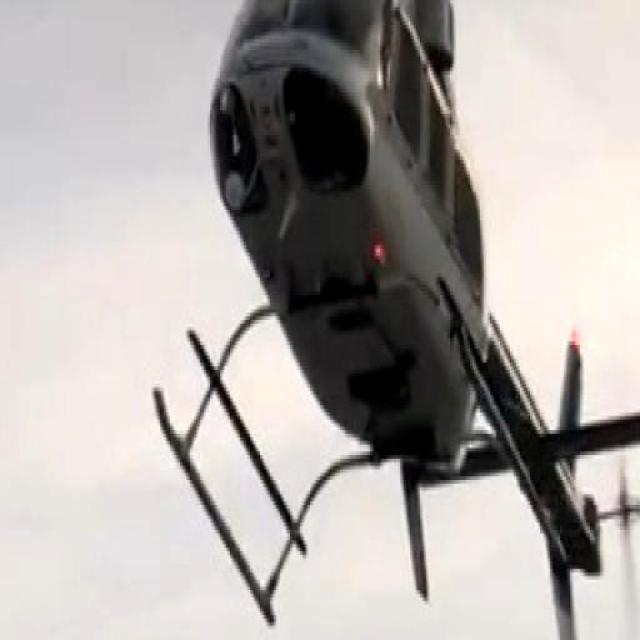drone: (135, 0, 640, 640)
